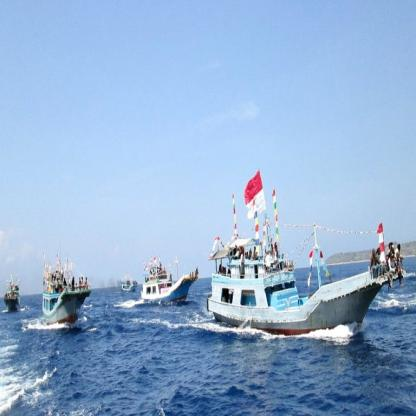fishing boat: (209, 195, 405, 330), (40, 258, 94, 323), (143, 266, 196, 303), (3, 277, 27, 313), (117, 278, 137, 293)
